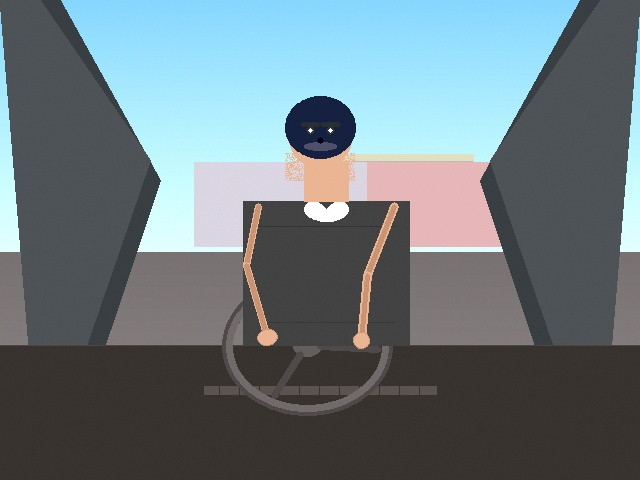normal_driving: (107, 188, 307, 346)
